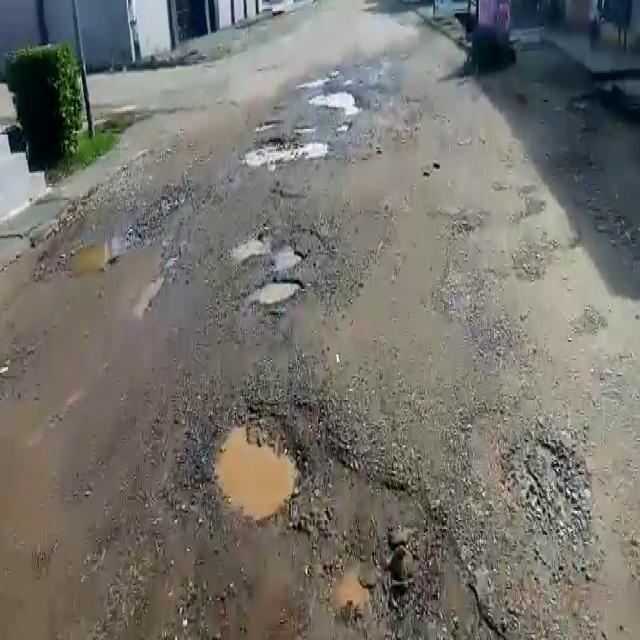Pothole: (210, 408, 306, 523), (239, 130, 329, 168), (231, 233, 306, 267), (62, 236, 122, 276), (248, 273, 305, 305), (308, 88, 364, 112)
